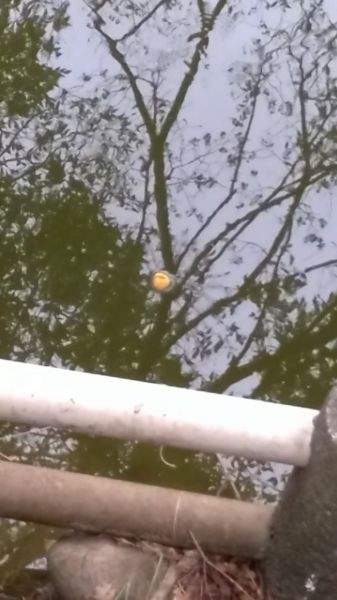eggs: (149, 272, 176, 293)
